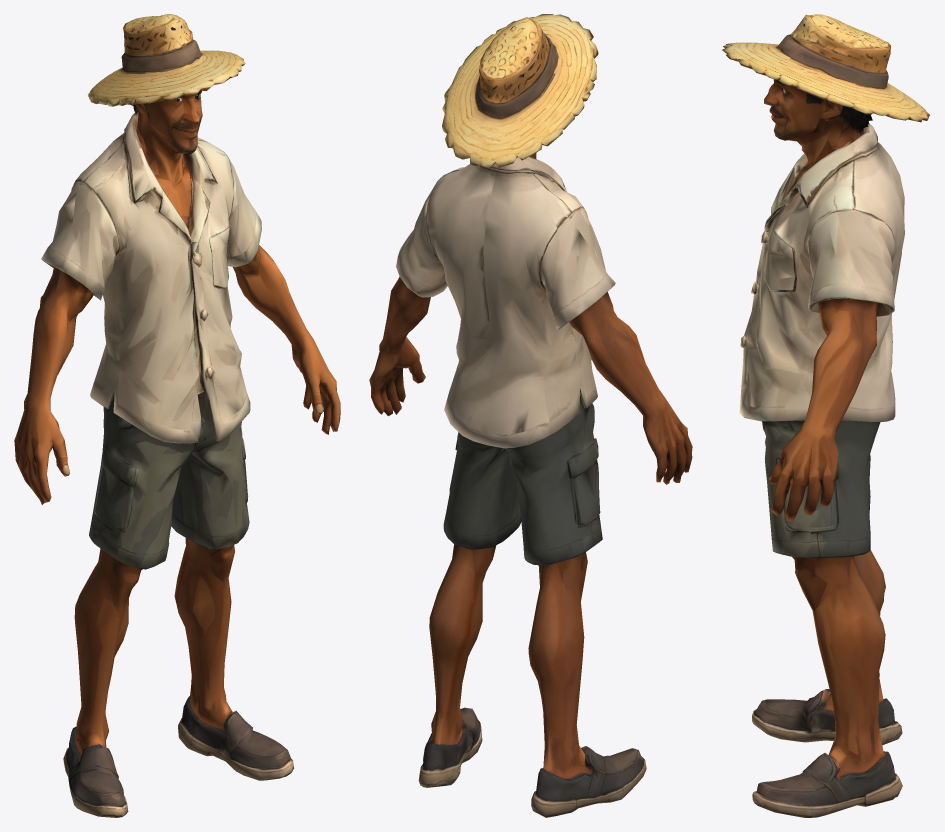
The model's file is pedestrian.glb.
The picture shows the model from 3 angles, left to right: view 1: azimuth 30°, elevation 25°; view 2: azimuth 150°, elevation 25°; view 3: azimuth 270°, elevation 25°; orthographic projection.
Visible parts, largest first — view 1: TripoPedestrian_Mesh; view 2: TripoPedestrian_Mesh; view 3: TripoPedestrian_Mesh.
Part boxes in pixels (<box>): TripoPedestrian_Mesh: <box>14,14,340,817</box>; TripoPedestrian_Mesh: <box>369,14,692,817</box>; TripoPedestrian_Mesh: <box>722,14,929,817</box>.
Bounding box in the file's own units: 0.75 × 1.8 × 0.45.
1 material, 1 textured.
